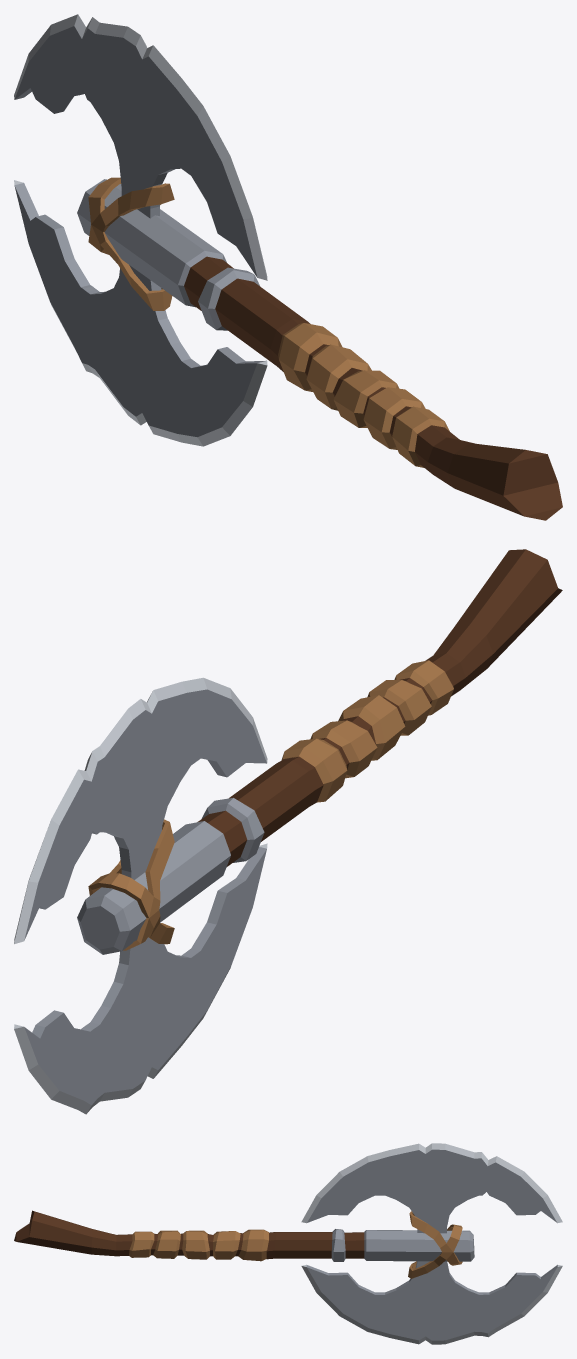
The model's file is melee.greataxe.glb.
The picture shows the model from 3 angles, top to bottom: view 1: azimuth 30°, elevation 25°; view 2: azimuth 150°, elevation 25°; view 3: azimuth 270°, elevation 25°; orthographic projection. The views are drawn at different scales.
Visible parts, largest first — view 1: melee.greataxe; view 2: melee.greataxe; view 3: melee.greataxe.
Boxes of the visible parts, <box> form: melee.greataxe: <box>14,14,562,520</box>; melee.greataxe: <box>14,549,562,1114</box>; melee.greataxe: <box>14,1143,562,1344</box>.
Bounding box in the file's own units: 0.0693 × 0.4454 × 1.1.
